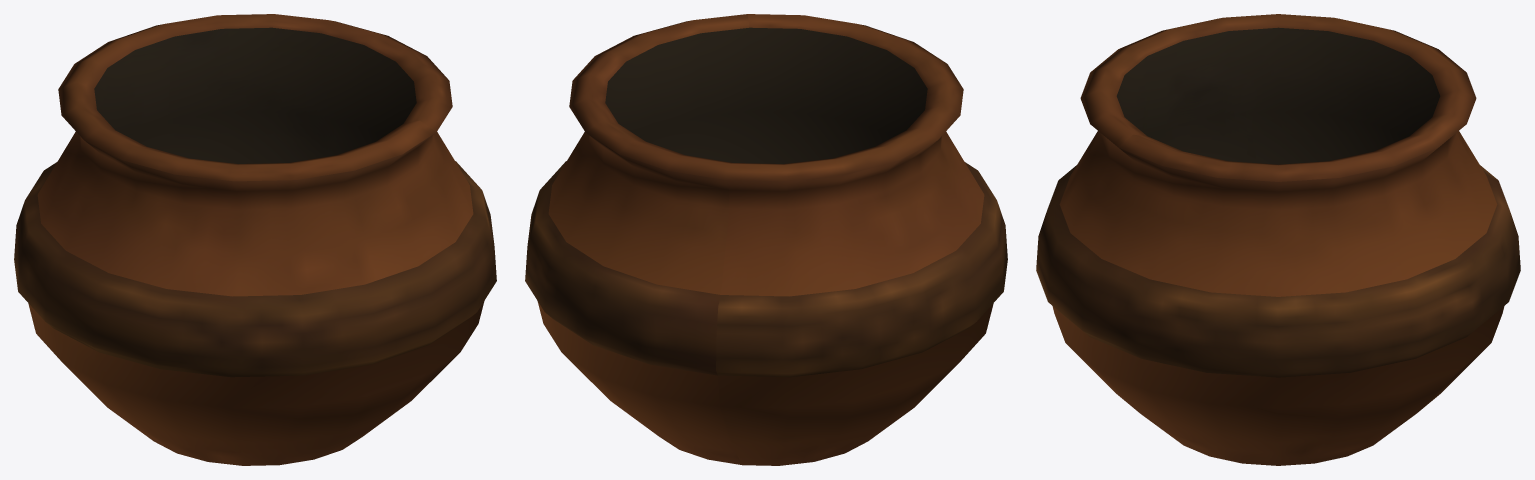
The model's file is vas.glb.
3 views of the same model, side by side, from view 1: azimuth 30°, elevation 25°; view 2: azimuth 150°, elevation 25°; view 3: azimuth 270°, elevation 25° (orthographic).
Visible parts, largest first — view 1: Vase_2; view 2: Vase_2; view 3: Vase_2.
Boxes of the visible parts, x1,y1,x2,y2 form: Vase_2: (14,14,496,465); Vase_2: (525,14,1007,465); Vase_2: (1036,14,1520,465).
Size of the model in its own units: 0.6947 by 0.5163 by 0.6947.
1 material, 1 textured.
